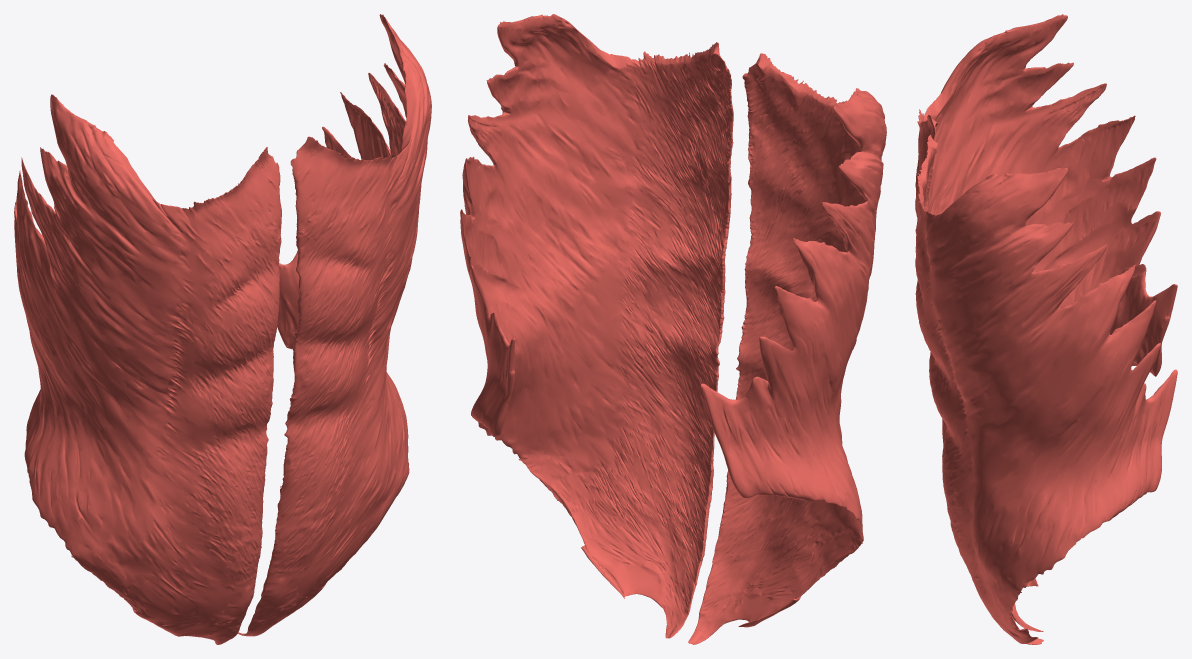
The model's file is supplement-spine-trunk-muscle-abdominals.glb.
3 views of the same model, side by side, from view 1: azimuth 30°, elevation 25°; view 2: azimuth 150°, elevation 25°; view 3: azimuth 270°, elevation 25° (orthographic). The views are drawn at different scales.
Visible parts, largest first — view 1: spine-trunk:external-oblique:isa:FJ1452, spine-trunk:external-oblique:isa:FJ1452M; view 2: spine-trunk:external-oblique:isa:FJ1452M, spine-trunk:external-oblique:isa:FJ1452; view 3: spine-trunk:external-oblique:isa:FJ1452M, spine-trunk:external-oblique:isa:FJ1452.
Boxes of the visible parts, x1,y1,x2,y2 form: spine-trunk:external-oblique:isa:FJ1452: [14, 94, 281, 644]; spine-trunk:external-oblique:isa:FJ1452M: [238, 14, 431, 636]; spine-trunk:external-oblique:isa:FJ1452M: [460, 14, 733, 638]; spine-trunk:external-oblique:isa:FJ1452: [688, 53, 886, 644]; spine-trunk:external-oblique:isa:FJ1452M: [915, 135, 1177, 644]; spine-trunk:external-oblique:isa:FJ1452: [915, 14, 1177, 631].
Size of the model in its own units: 0.2816 by 0.418 by 0.1818.
